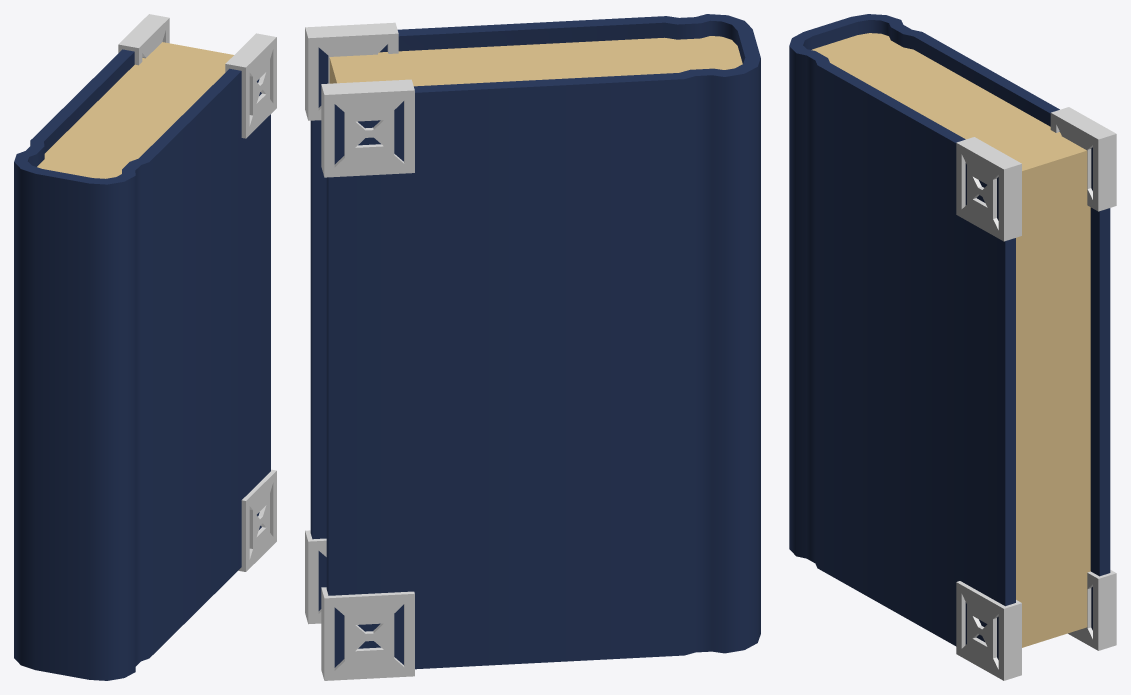
Rendered from obj_Book_14.fbx.
3 views of the same model, side by side, from view 1: azimuth 30°, elevation 25°; view 2: azimuth 150°, elevation 25°; view 3: azimuth 270°, elevation 25° (orthographic). The views are drawn at different scales.
Visible parts, largest first — view 1: Book_14, Book_EdgePattern.025; view 2: Book_14, Book_EdgePattern.025; view 3: Book_14, Book_EdgePattern.025.
Part boxes in pixels (box(x1,y1,x2,y2)): Book_14: box(14, 42, 270, 680); Book_EdgePattern.025: box(118, 14, 276, 571); Book_14: box(310, 14, 760, 669); Book_EdgePattern.025: box(305, 22, 414, 680); Book_14: box(789, 14, 1110, 659); Book_EdgePattern.025: box(956, 107, 1116, 680).
Size of the model in its own units: 0.2308 by 0.3447 by 0.1999.
